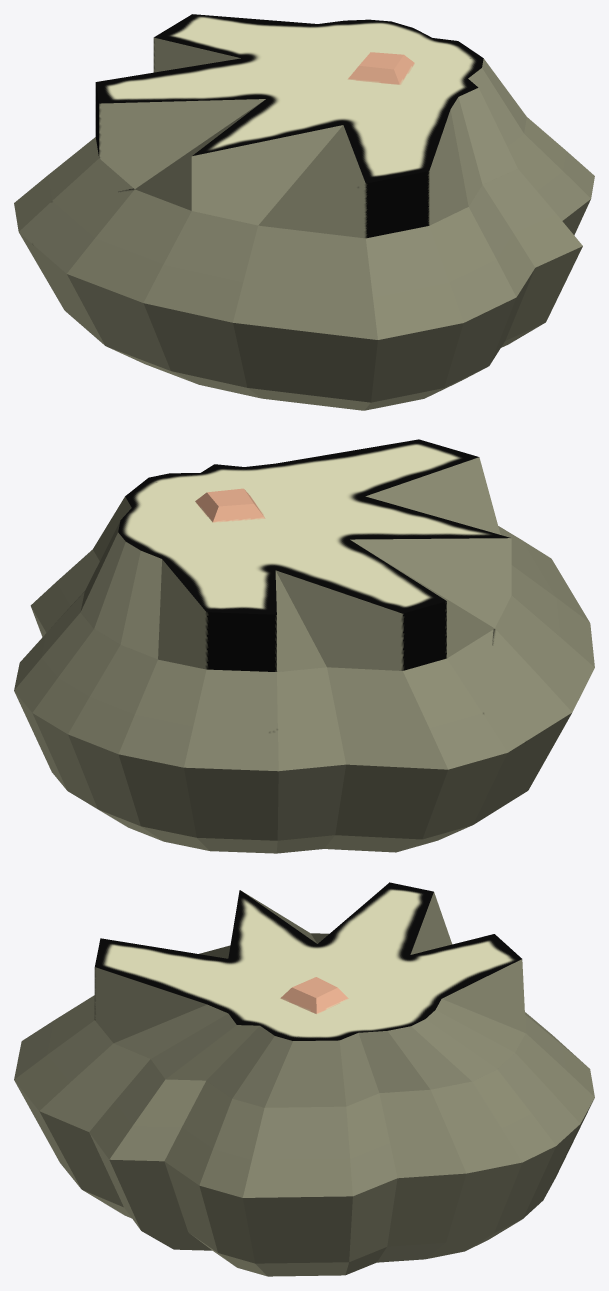
Rendered from fossil2.glb.
The picture shows the model from 3 angles, top to bottom: view 1: azimuth 30°, elevation 25°; view 2: azimuth 150°, elevation 25°; view 3: azimuth 270°, elevation 25°; orthographic projection. The views are drawn at different scales.
Visible parts, largest first — view 1: Plane; view 2: Plane; view 3: Plane.
Boxes of the visible parts, bbox=[...] form: Plane: bbox=[14, 14, 594, 410]; Plane: bbox=[14, 439, 594, 853]; Plane: bbox=[14, 882, 594, 1276].
Size of the model in its own units: 2.48 by 1.16 by 2.59.
Materials: 1 (1 with a texture image).
